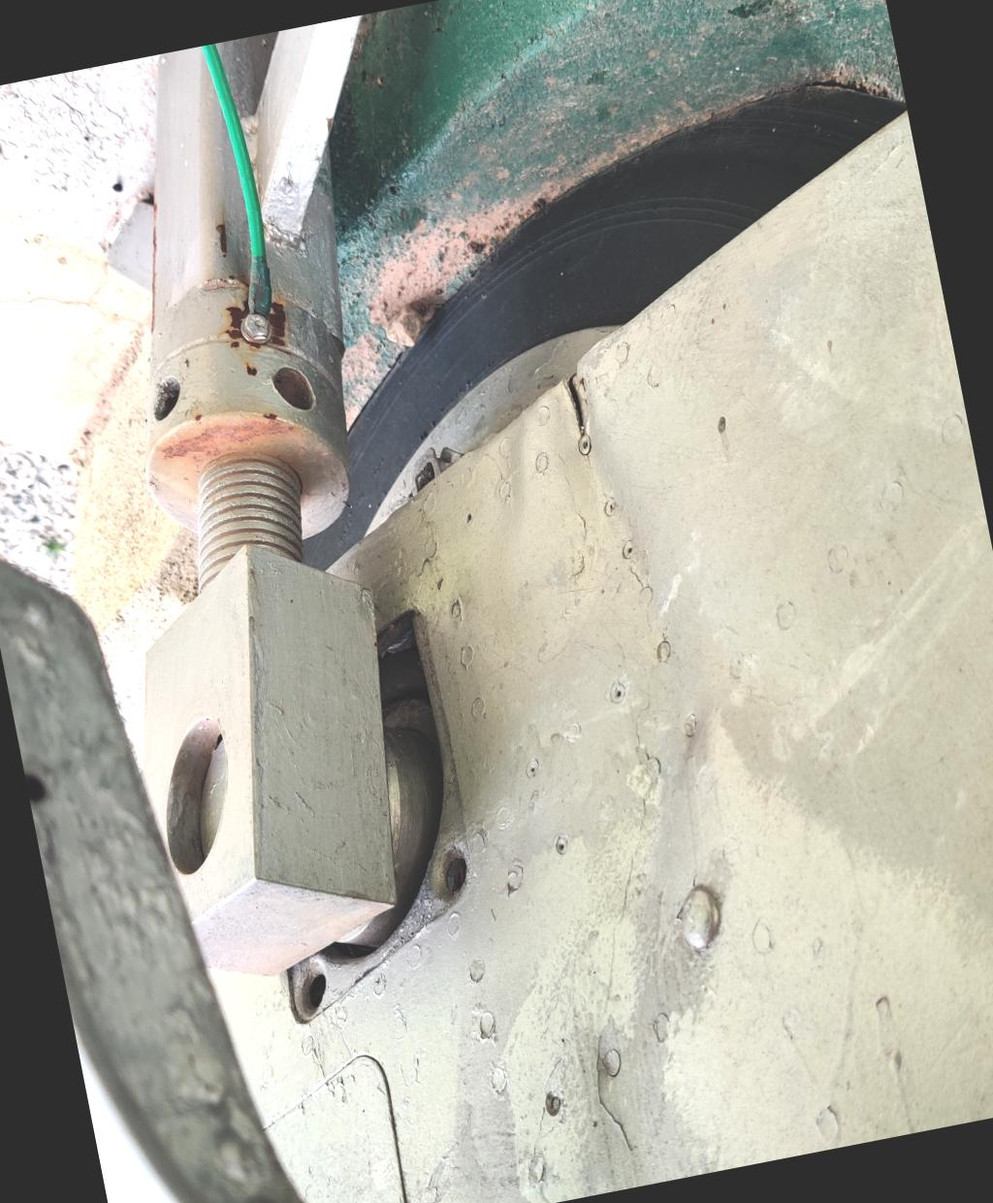crack: (541, 350, 618, 477)
